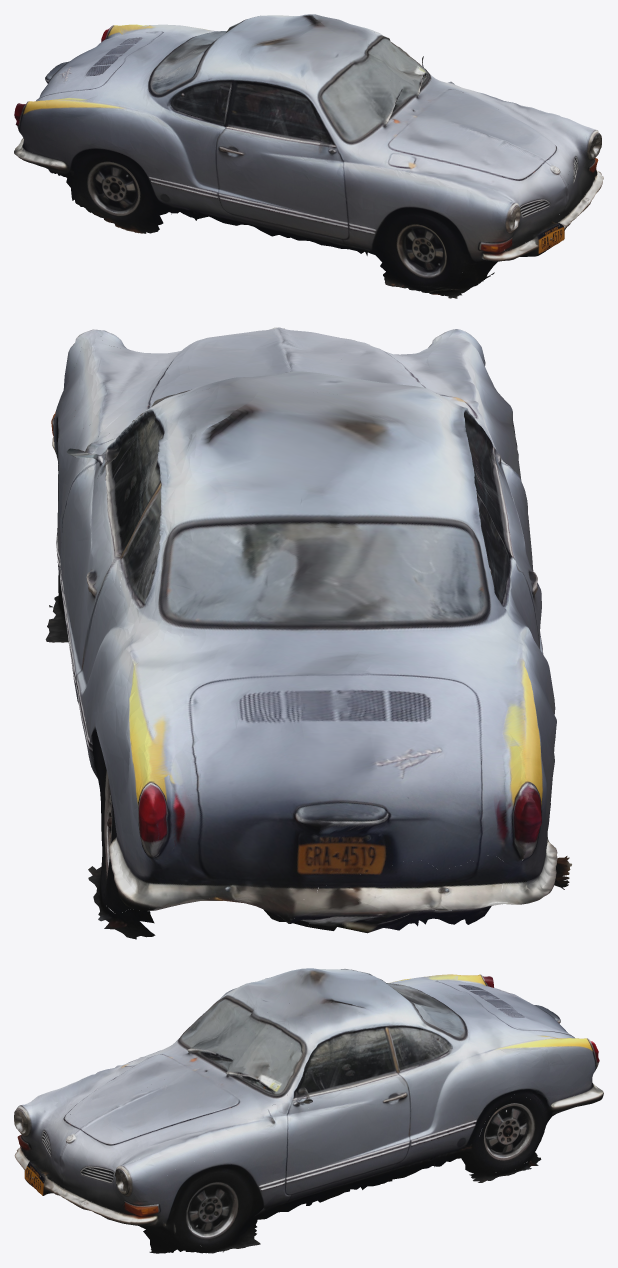
The model's file is volkswagen-karmann-ghia.glb.
The picture shows the model from 3 angles, top to bottom: view 1: azimuth 30°, elevation 25°; view 2: azimuth 150°, elevation 25°; view 3: azimuth 270°, elevation 25°; orthographic projection. The views are drawn at different scales.
Parts seen in each view (by area): view 1: Object_2, Object_3; view 2: Object_2, Object_3, Object_4; view 3: Object_2, Object_3, Object_4.
Boxes of the visible parts, x1,y1,x2,y2 form: Object_2: (14, 14, 603, 291); Object_3: (19, 28, 587, 298); Object_2: (45, 329, 571, 923); Object_3: (49, 327, 551, 939); Object_4: (66, 448, 448, 926); Object_2: (14, 968, 603, 1251); Object_3: (14, 993, 541, 1253); Object_4: (42, 1092, 592, 1193).
Bounding box in the file's own units: 23.48 × 9.76 × 28.37.
Materials: 4 (3 with a texture image).
